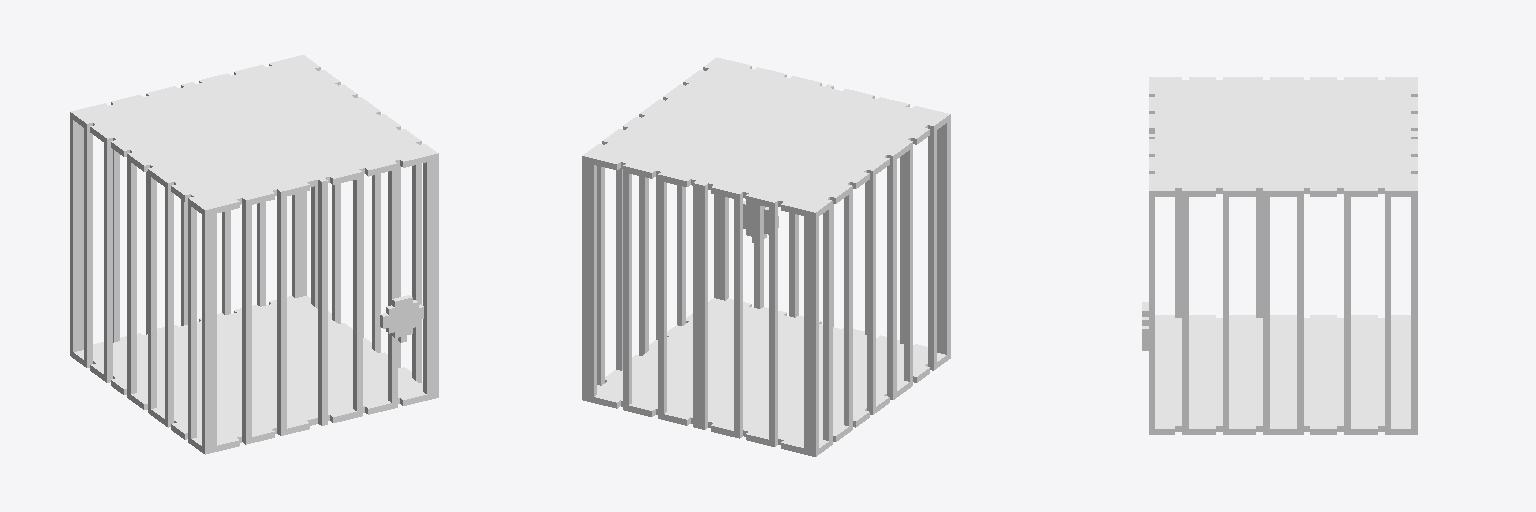
File: Cage-0-Cage.obj
The picture shows the model from 3 angles: view 1: azimuth 30°, elevation 25°; view 2: azimuth 150°, elevation 25°; view 3: azimuth 270°, elevation 25°; orthographic projection.
Parts seen in each view (by area): view 1: Cage; view 2: Cage; view 3: Cage.
Part boxes in pixels (bbox=[...]): Cage: bbox=[70, 55, 438, 454]; Cage: bbox=[582, 57, 950, 456]; Cage: bbox=[1142, 77, 1417, 434].
Size of the model in its own units: 4 by 4 by 4.1.